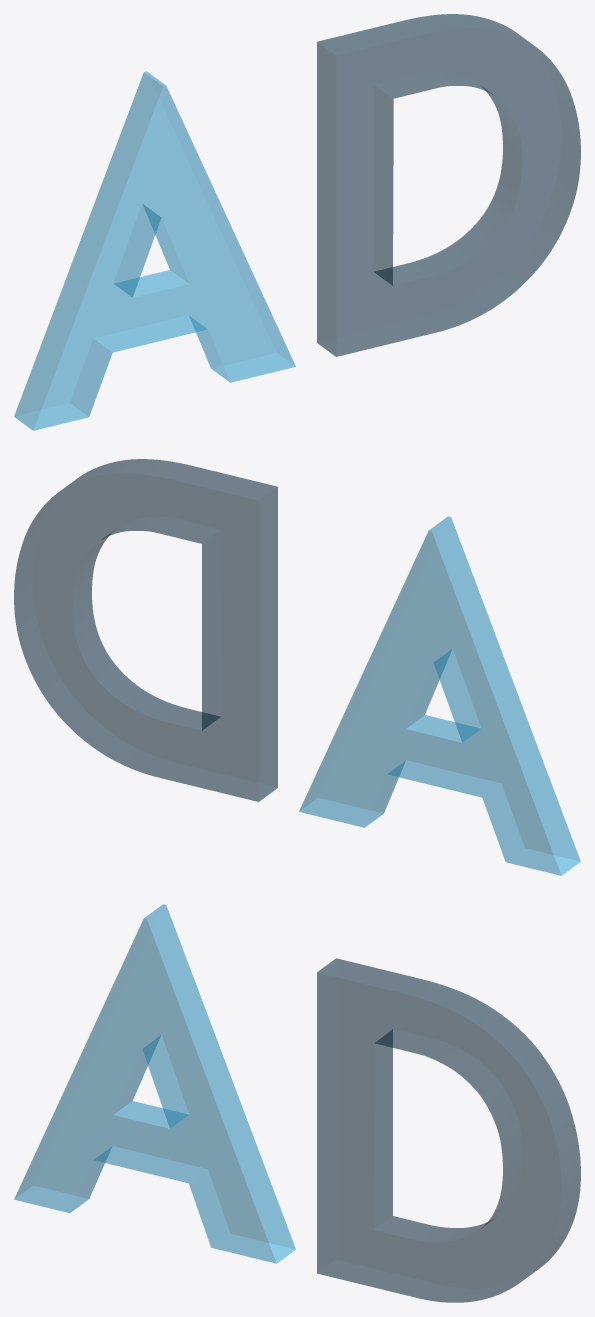
The picture shows the model from 3 angles, top to bottom: view 1: azimuth 30°, elevation 25°; view 2: azimuth 150°, elevation 25°; view 3: azimuth 330°, elevation 25°; orthographic projection.
Visible parts, largest first — view 1: Curve.001, Curve; view 2: Curve.001, Curve; view 3: Curve.001, Curve.
Part boxes in pixels (bbox=[...]): Curve.001: bbox=[317, 14, 580, 356]; Curve: bbox=[14, 71, 295, 430]; Curve.001: bbox=[14, 459, 277, 801]; Curve: bbox=[299, 516, 580, 875]; Curve.001: bbox=[317, 958, 580, 1302]; Curve: bbox=[14, 904, 295, 1263].
Bounding box in the file's own units: 5.61 × 3.07 × 0.3434.
